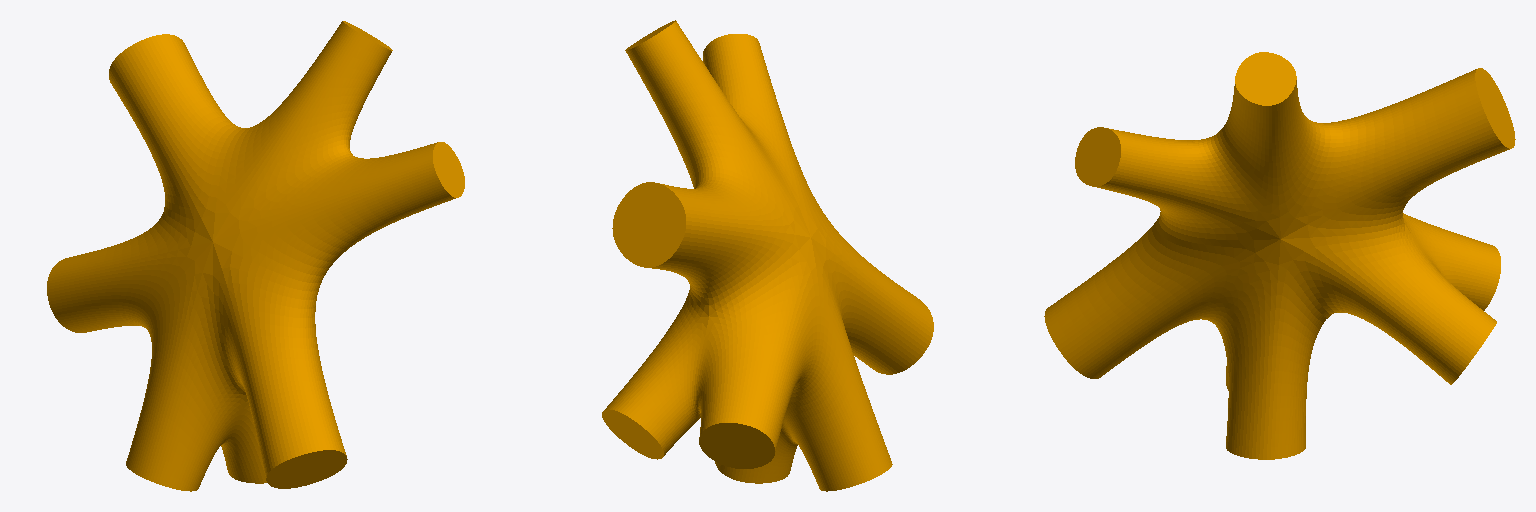
robot.urdf — object:
<robot name="object">
  <link name="object">
    <visual>
      <origin xyz="0 0 0"/>
      <geometry>
        <mesh filename="visual.obj" scale="1 1 1"/>
      </geometry>
    </visual>
    <collision>
      <origin xyz="0 0 0"/>
      <geometry>
        <mesh filename="visual.obj" scale="1 1 1"/>
      </geometry>
    </collision>
    <inertial>
      <mass value="0.05"/>
      <inertia ixx="0.0002926477943038192" iyy="0.0001926579425211453" izz="0.00018185893248383678" ixy="1.1732753981178668e-05" ixz="-4.924896117644646e-05" iyz="-9.145077797870613e-06"/>
    </inertial>
  </link>
</robot>

--- Render facts (derived) ---
The picture shows the robot from 3 angles, left to right: view 1: azimuth 30°, elevation 25°; view 2: azimuth 150°, elevation 25°; view 3: azimuth 270°, elevation 25°; orthographic projection.
Robot: object — 1 links, 0 joints (none); root link object; default pose: all joints at 0.
Links seen in each view (by area): view 1: object; view 2: object; view 3: object.
Boxes of the visible links, left/top/right/bottom form: object: left=47, top=21, right=464, bottom=491; object: left=602, top=20, right=933, bottom=491; object: left=1044, top=52, right=1515, bottom=459.
Size in the robot's own frame: 0.1677 by 0.2564 by 0.2645 metres.
Meshes: 1 distinct files referenced, 1 mesh visuals loaded (1 OBJ).
